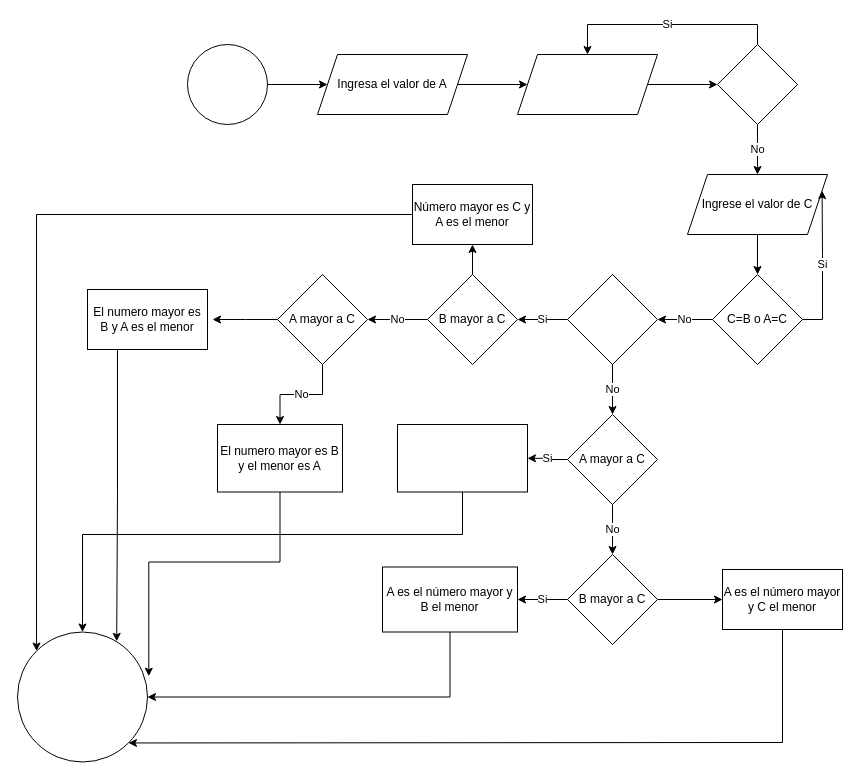
This 860x780 diagram has some shape labels left out. Each missing label, with the centre of its shape:
"A mayor a B" belongs at [612,319].
"A=B" belongs at [757,84].
"C es el mayor y B el menor" belongs at [462,458].
"Fin" belongs at [82,696].
"Ingresa el valor de B" belongs at [587,84].
"Inicio" belongs at [227,84].
